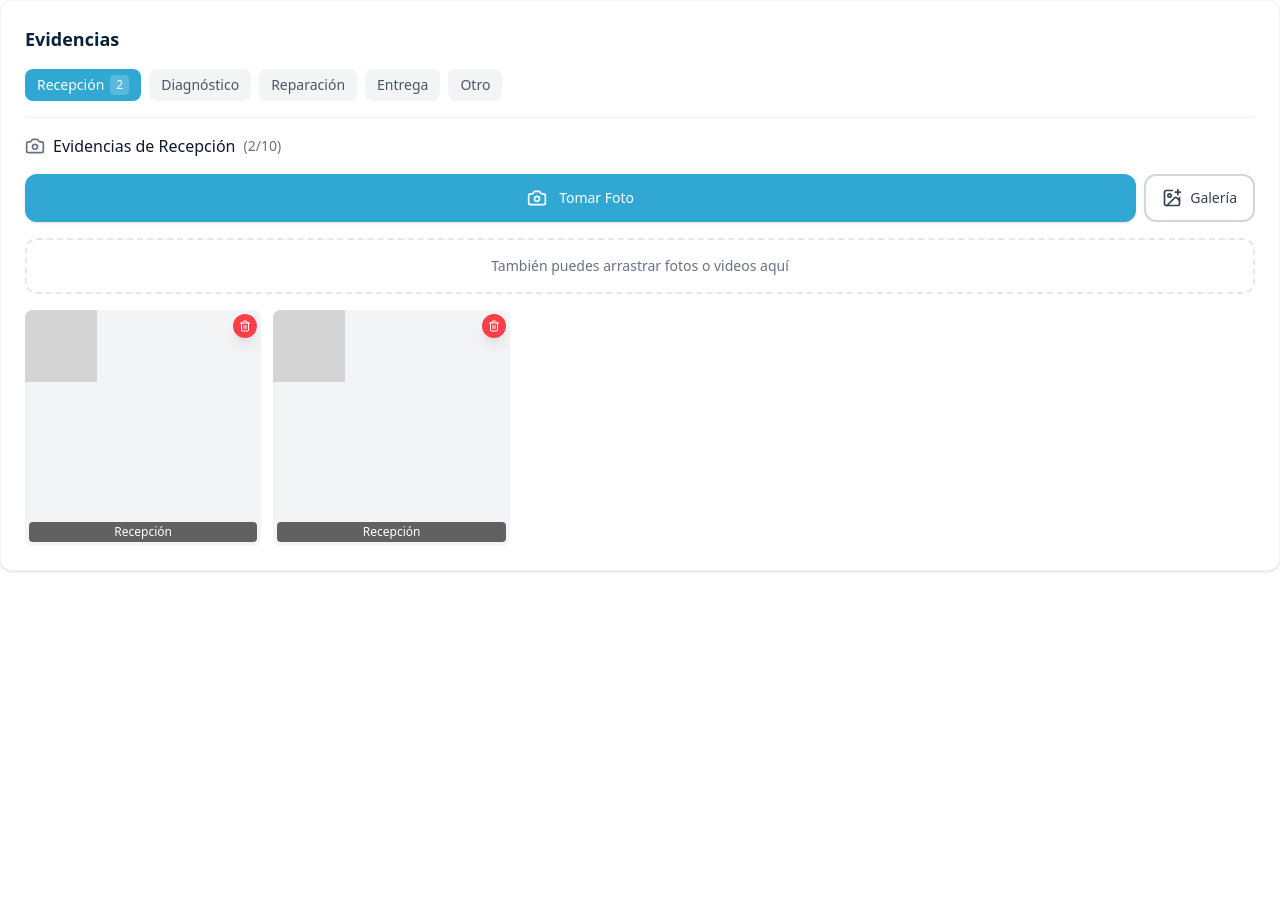
Scenario: EvidenciasSection — lightbox integration › se abre al hacer clic en thumbnail de evidencia
The width and height of the screenshot is (1280, 900).
Click the button with aria-label "Ver foto".
click(143, 428)  # box [25,310,261,546]
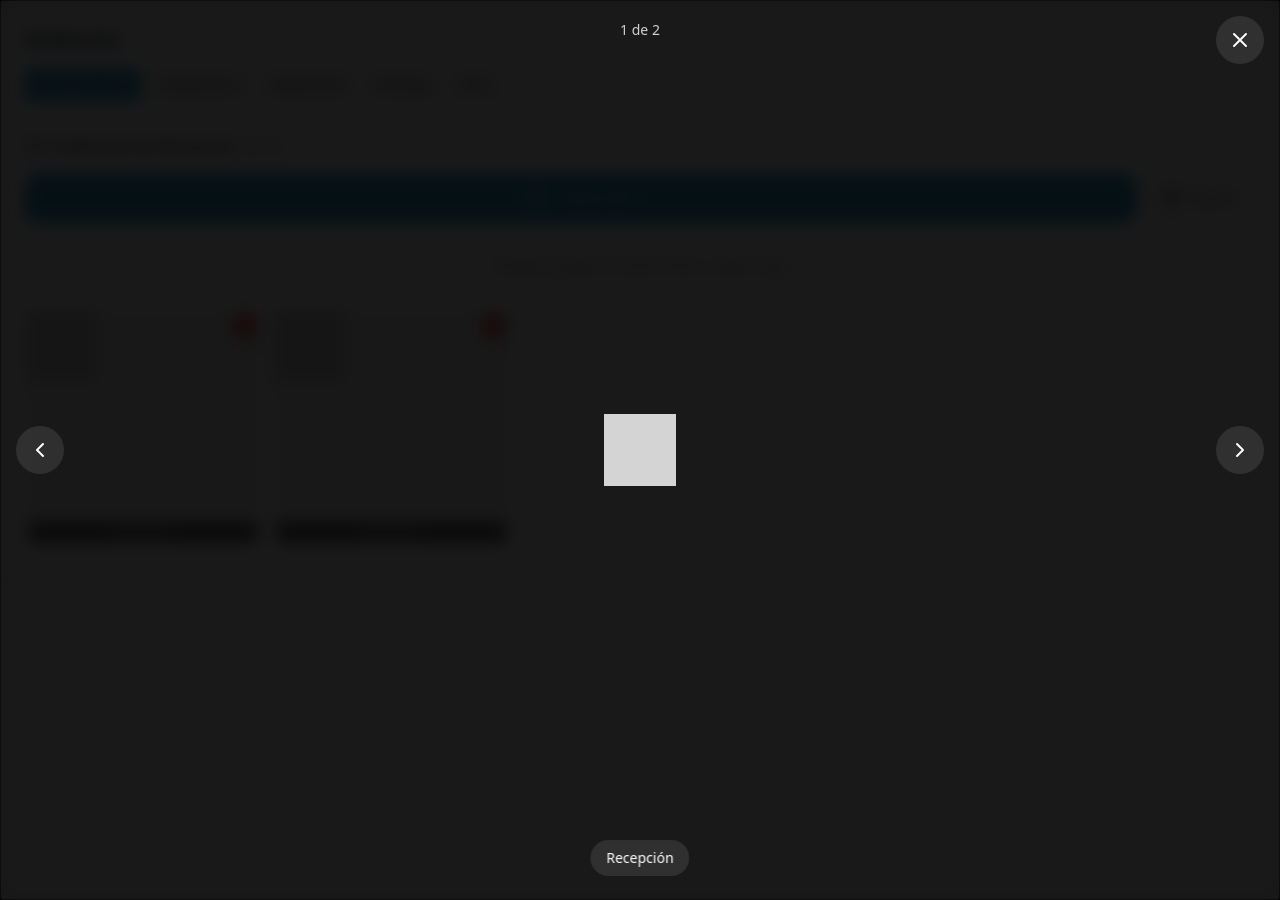
Expected: the dialog is shown
Expected: the text "1 de 2" is shown, [620,20,660,40]
